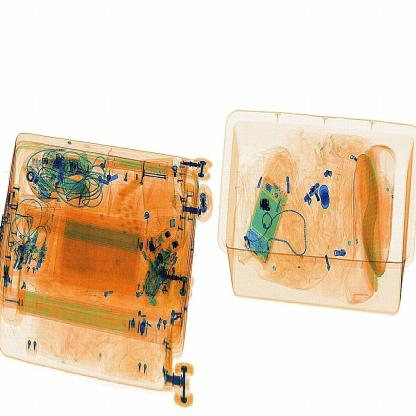scissors: (260, 197, 272, 215)
